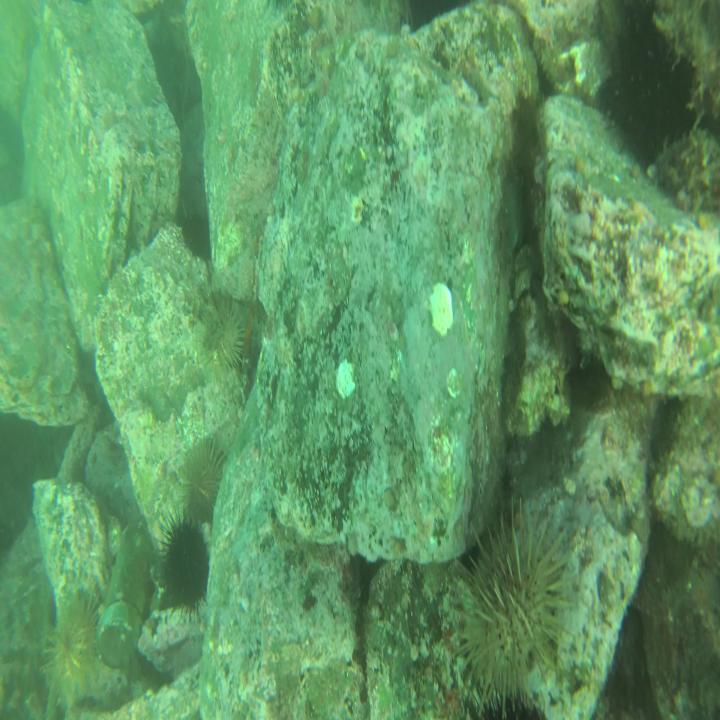echinus: (450, 492, 568, 720), (153, 510, 213, 620), (44, 588, 102, 696), (199, 300, 246, 376), (180, 438, 226, 515)
scallop: (426, 280, 457, 338)
